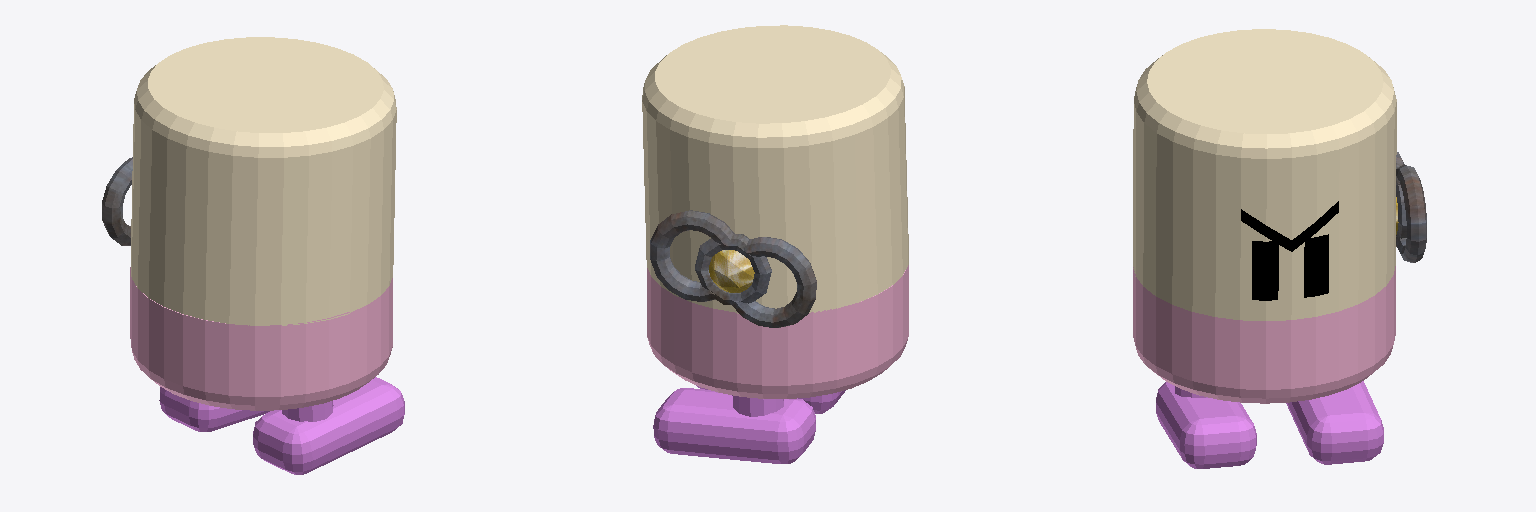
3 renders of one model, left to right at view 1: azimuth 30°, elevation 25°; view 2: azimuth 150°, elevation 25°; view 3: azimuth 270°, elevation 25°, orthographic.
Visible parts, largest first — view 1: Head, Jaw, RightLeg, LeftLeg, WindupKey; view 2: Head, Jaw, WindupKey, LeftLeg; view 3: Head, Jaw, RightLeg, LeftLeg, WindupKey.
Boxes of the visible parts, x1=… form: Head: x1=131, y1=37, x2=396, y2=325; Jaw: x1=130, y1=267, x2=392, y2=410; RightLeg: x1=253, y1=377, x2=404, y2=474; LeftLeg: x1=159, y1=387, x2=269, y2=431; WindupKey: x1=102, y1=157, x2=132, y2=245; Head: x1=642, y1=25, x2=908, y2=313; Jaw: x1=647, y1=265, x2=908, y2=398; WindupKey: x1=650, y1=210, x2=816, y2=327; LeftLeg: x1=653, y1=388, x2=815, y2=463; Head: x1=1133, y1=29, x2=1396, y2=320; Jaw: x1=1133, y1=266, x2=1395, y2=403; RightLeg: x1=1156, y1=382, x2=1256, y2=468; LeftLeg: x1=1286, y1=381, x2=1383, y2=464; WindupKey: x1=1396, y1=152, x2=1426, y2=262.
Size of the model in its own units: 102 by 149 by 112.
6 materials, 2 textured.